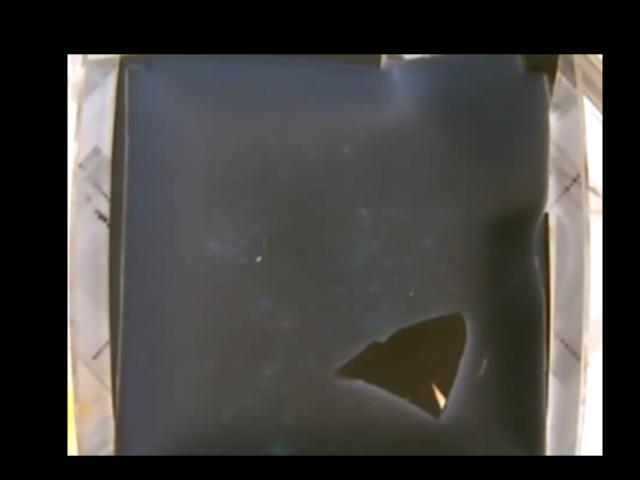China: (335, 310, 467, 419)
